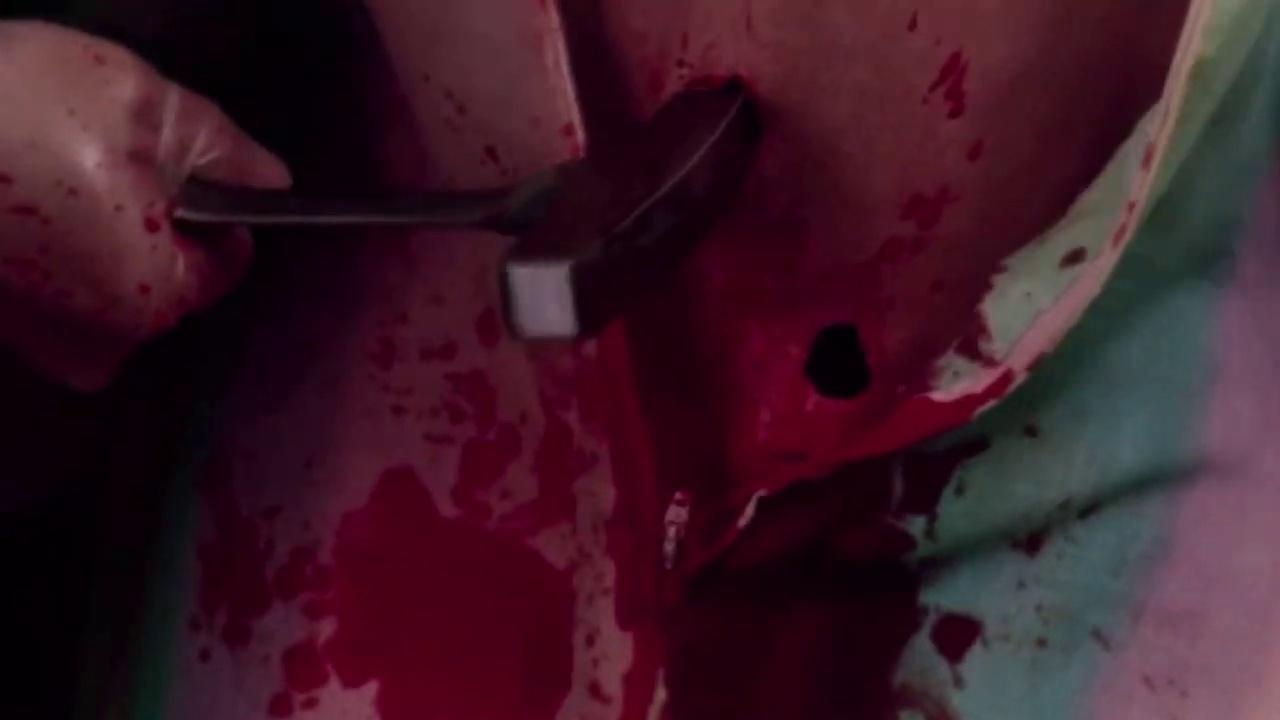Fire: (0, 0, 1224, 719)
